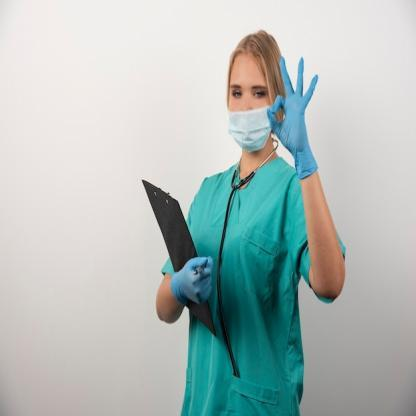ok: (266, 53, 321, 156)
